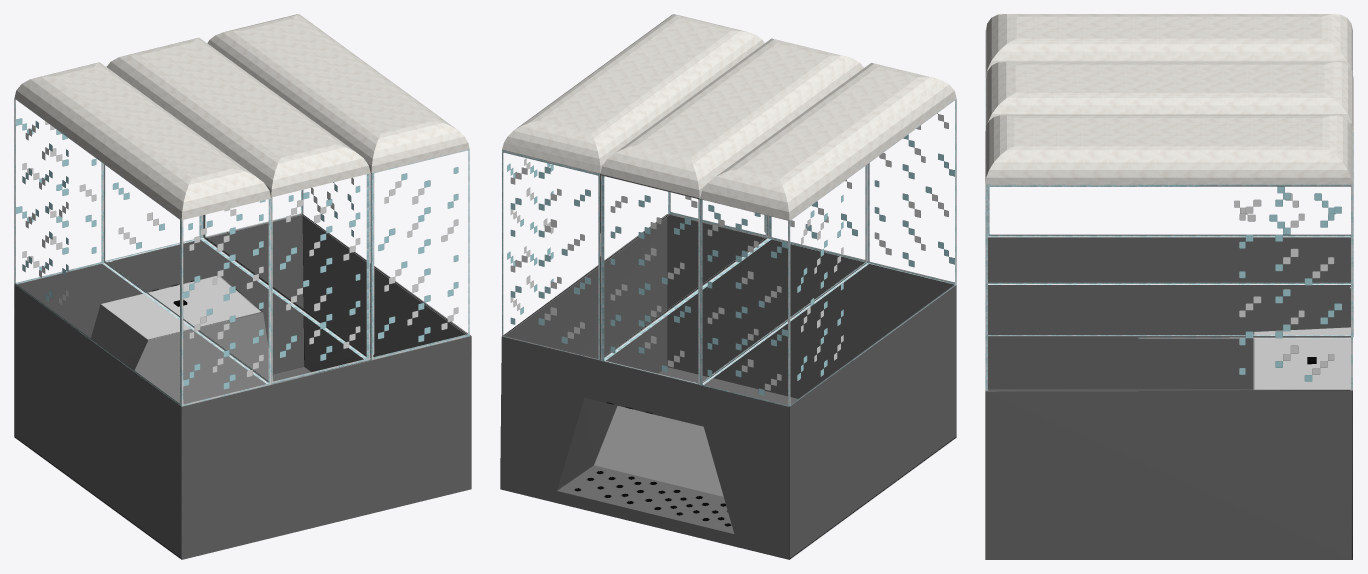
File: juiceMixer.obj
The picture shows the model from 3 angles, left to right: view 1: azimuth 30°, elevation 25°; view 2: azimuth 150°, elevation 25°; view 3: azimuth 270°, elevation 25°; orthographic projection. The views are drawn at different scales.
Visible parts, largest first — view 1: Cube; view 2: Cube; view 3: Cube.
Part boxes in pixels (bbox=[...]): Cube: bbox=[14, 14, 471, 559]; Cube: bbox=[500, 14, 956, 559]; Cube: bbox=[985, 14, 1353, 559].
Size of the model in its own units: 2 by 2.41 by 2.
